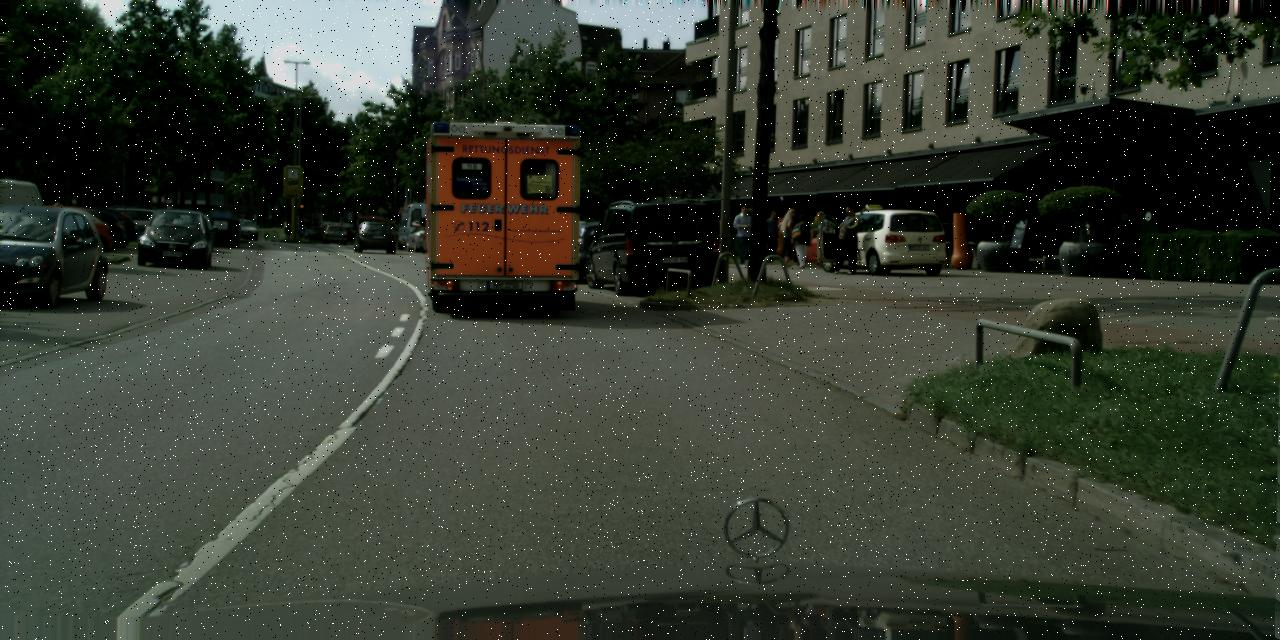ped: (831, 204, 860, 274), (776, 208, 800, 267), (733, 204, 756, 262), (761, 210, 783, 264), (791, 214, 812, 268), (812, 210, 832, 264), (51, 198, 65, 234)
